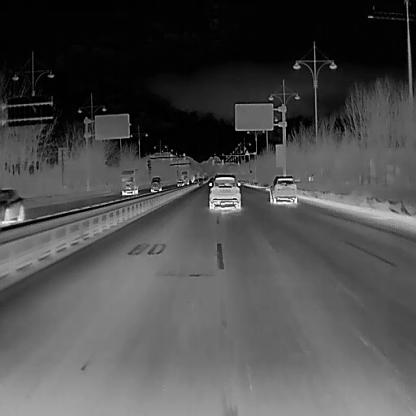car: (207, 172, 240, 210), (0, 188, 24, 226), (268, 175, 296, 203), (149, 174, 160, 192)
truck: (118, 168, 139, 195)
